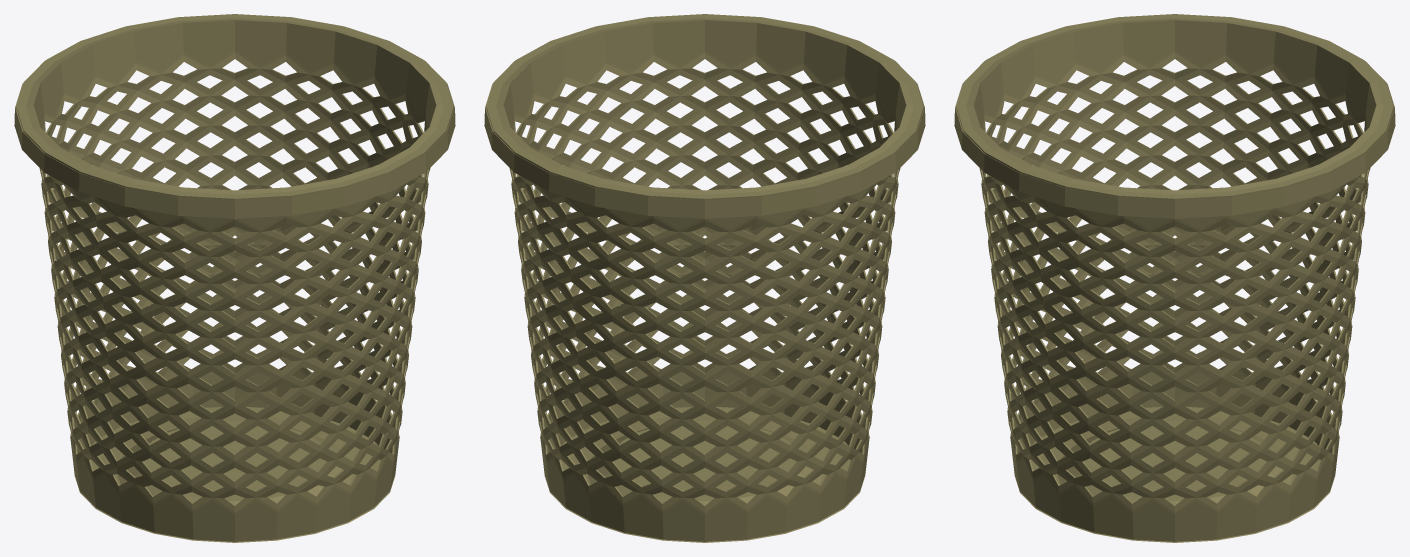
Rendered from Bin.fbx.
The picture shows the model from 3 angles, left to right: view 1: azimuth 30°, elevation 25°; view 2: azimuth 150°, elevation 25°; view 3: azimuth 270°, elevation 25°; orthographic projection.
Parts seen in each view (by area): view 1: Bin; view 2: Bin; view 3: Bin.
Part boxes in pixels (x1,y1,x2,y2): Bin: (14, 14, 455, 542); Bin: (484, 14, 925, 542); Bin: (954, 14, 1395, 542).
Size of the model in its own units: 430 by 398 by 430.
